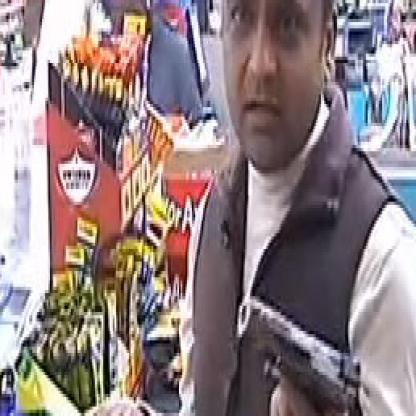gun: (226, 284, 367, 413)
